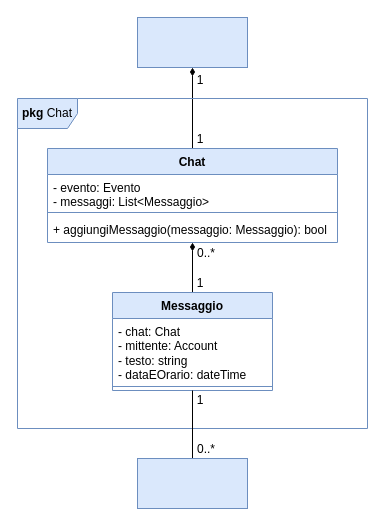
Some shapes in this 385 by 526 pixel diagram are drawn without their labels. Here are the shapes that lost their labels. From the top down, the centre of each, then its label:
At point 192,42: "Evento".
At point 192,483: "<<abstract>> Account".
